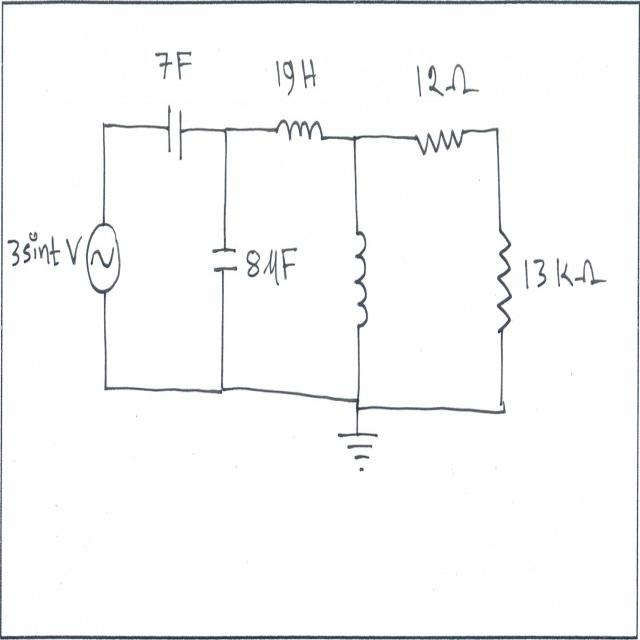ac_current: (82, 207, 122, 311)
capacitor: (162, 98, 189, 166), (209, 241, 244, 282)
ground: (332, 427, 381, 476)
inductor: (271, 110, 326, 155), (352, 224, 372, 337)
resistor: (492, 224, 515, 342), (412, 115, 468, 162)
